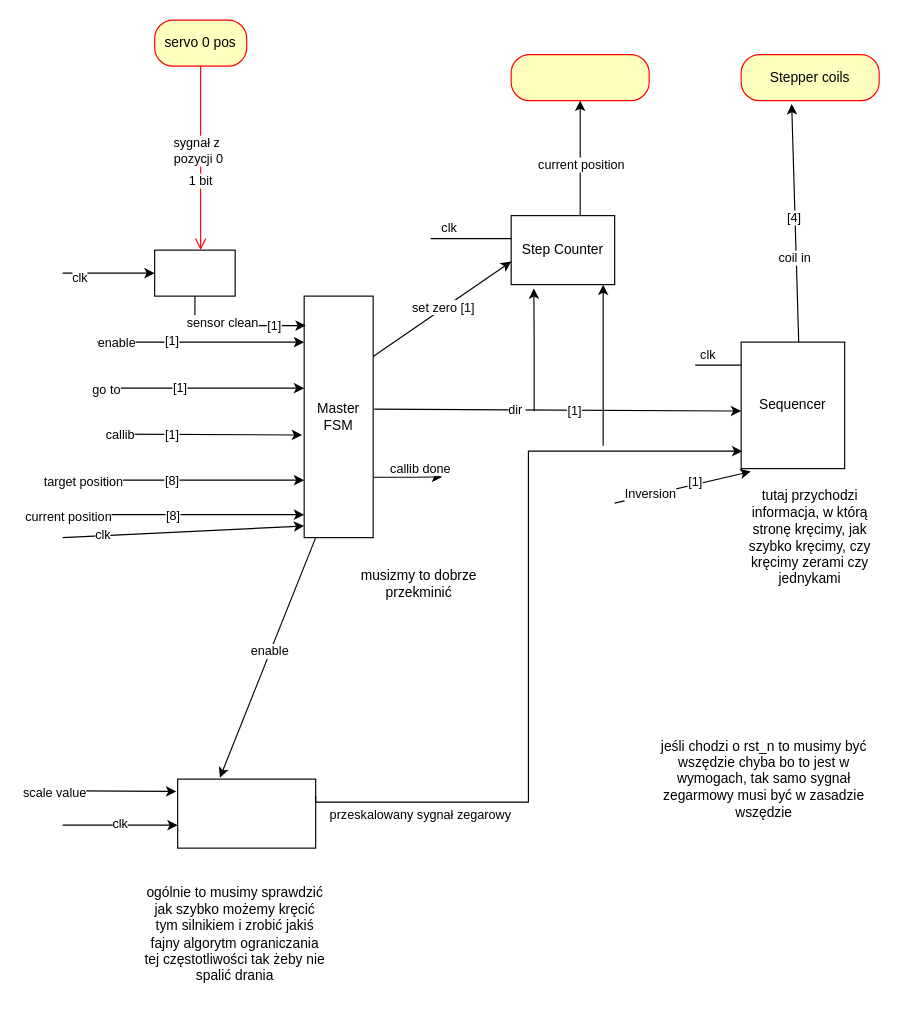
This 899x1029 diagram has some shape labels left out. The centre of each missing label's shape, as x and y in pixels:
"Debouncer" goes at (x=194, y=272).
"Position register" goes at (x=579, y=77).
"Prescaler" goes at (x=246, y=813).
